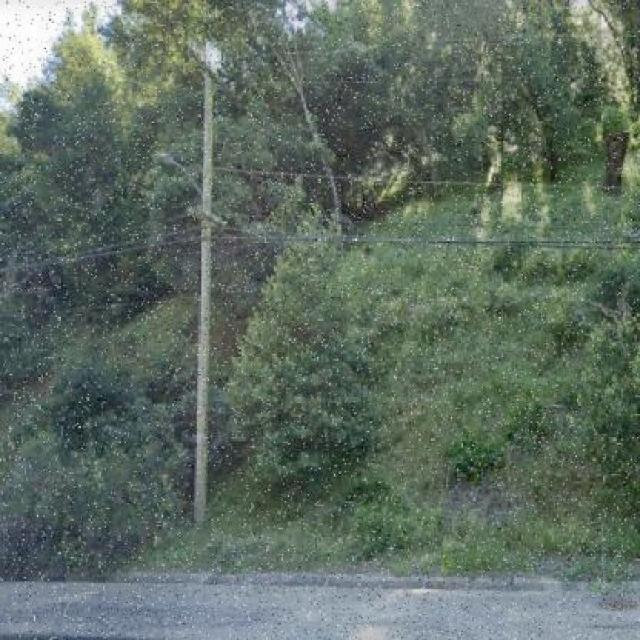pole: (195, 70, 214, 524)
wire: (213, 167, 640, 192), (1, 233, 199, 273), (211, 234, 640, 244)
